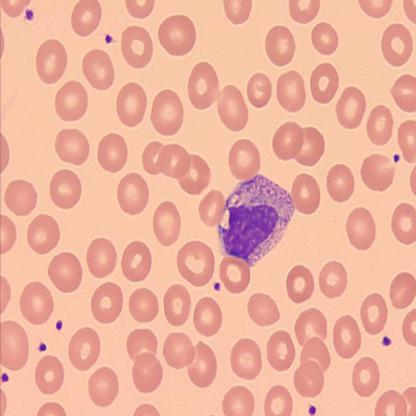Metamyelocyte: (215, 170, 298, 270)
